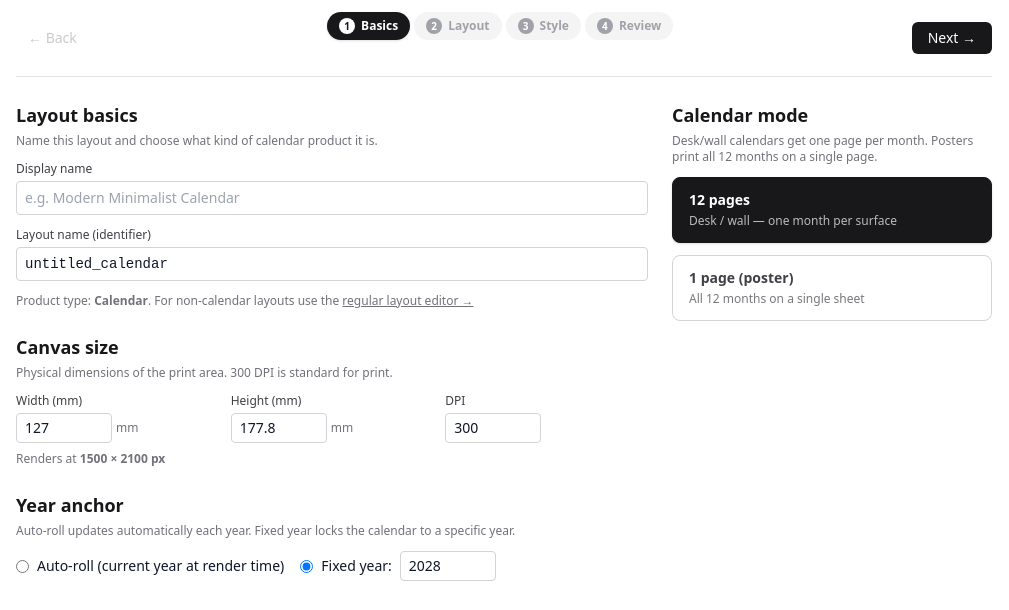
Test: CalendarLayoutEditor — year anchor › previews the January the print contains for a pinned year
Click the button "3 Style" at (543, 26), box [506,12,581,40]
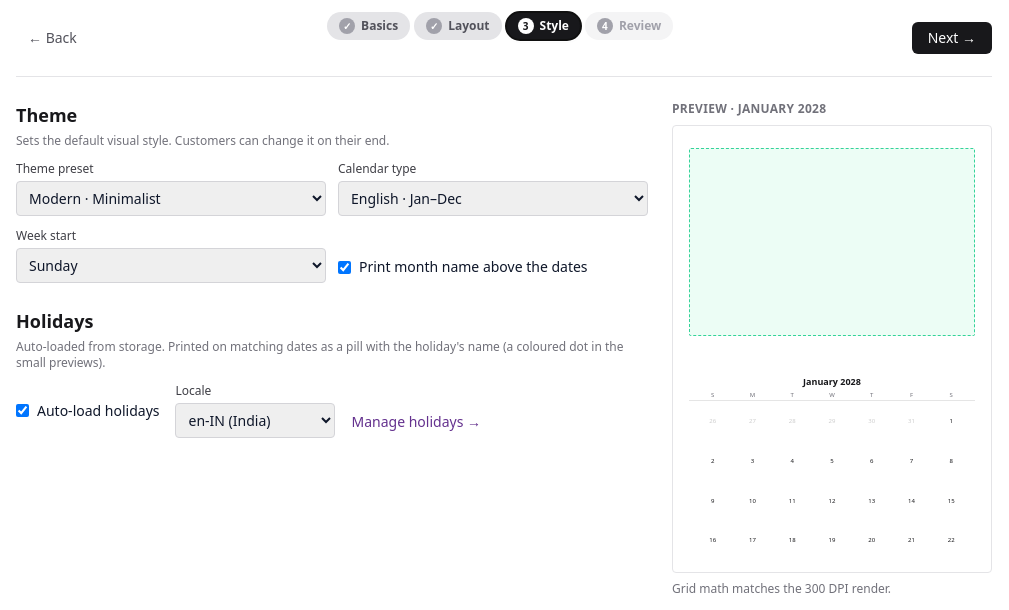
Check: the heading "Preview · January 2028" is shown, box [672,100,826,117]
